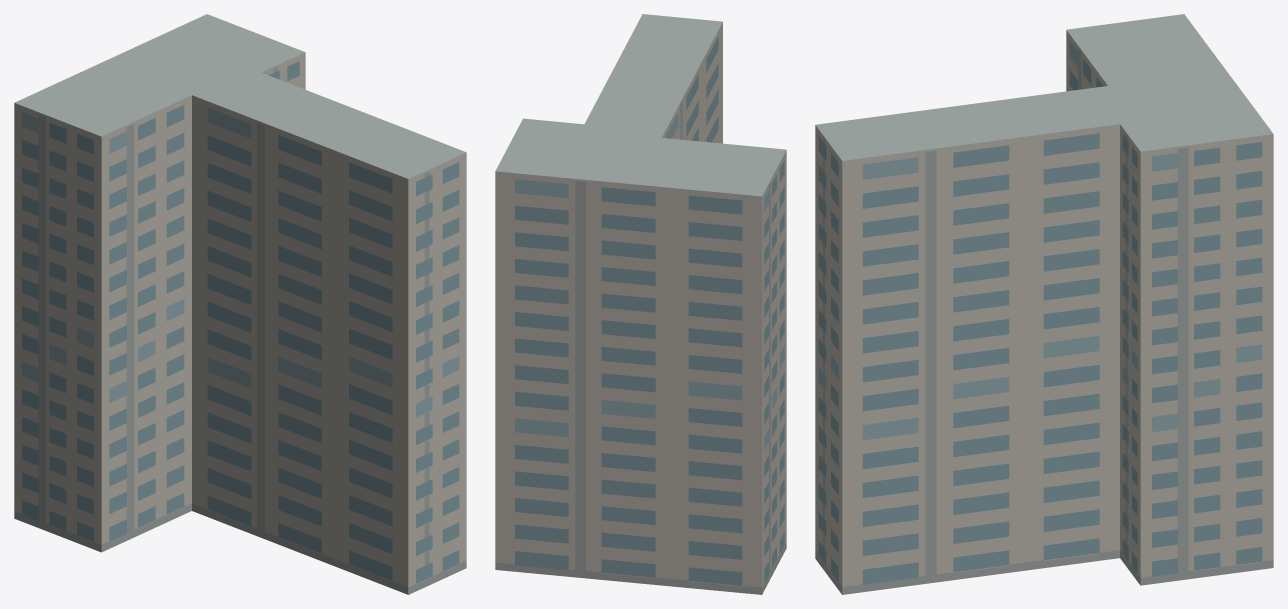
Rendered from residential-df3f2167-ee99-459c-903c-cb5d1d482b9b.glb.
The picture shows the model from 3 angles, left to right: view 1: azimuth 30°, elevation 25°; view 2: azimuth 150°, elevation 25°; view 3: azimuth 270°, elevation 25°; orthographic projection. The views are drawn at different scales.
Visible parts, largest first — view 1: residential-df3f2167-ee99-459c-903c-cb5d1d482b9b.tmp; view 2: residential-df3f2167-ee99-459c-903c-cb5d1d482b9b.tmp; view 3: residential-df3f2167-ee99-459c-903c-cb5d1d482b9b.tmp.
Boxes of the visible parts, <box> form: residential-df3f2167-ee99-459c-903c-cb5d1d482b9b.tmp: <box>14,14,466,594</box>; residential-df3f2167-ee99-459c-903c-cb5d1d482b9b.tmp: <box>495,14,786,594</box>; residential-df3f2167-ee99-459c-903c-cb5d1d482b9b.tmp: <box>815,14,1273,594</box>.
Bounding box in the file's own units: 35.59 × 49 × 46.9.
